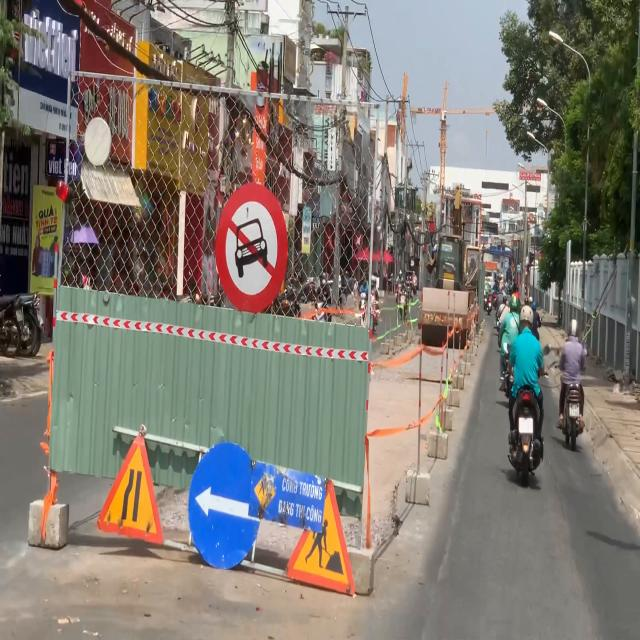Cam con lai: (218, 178, 289, 312)
Nguy hiem: (94, 423, 168, 551)
Re trai: (190, 438, 259, 567)
